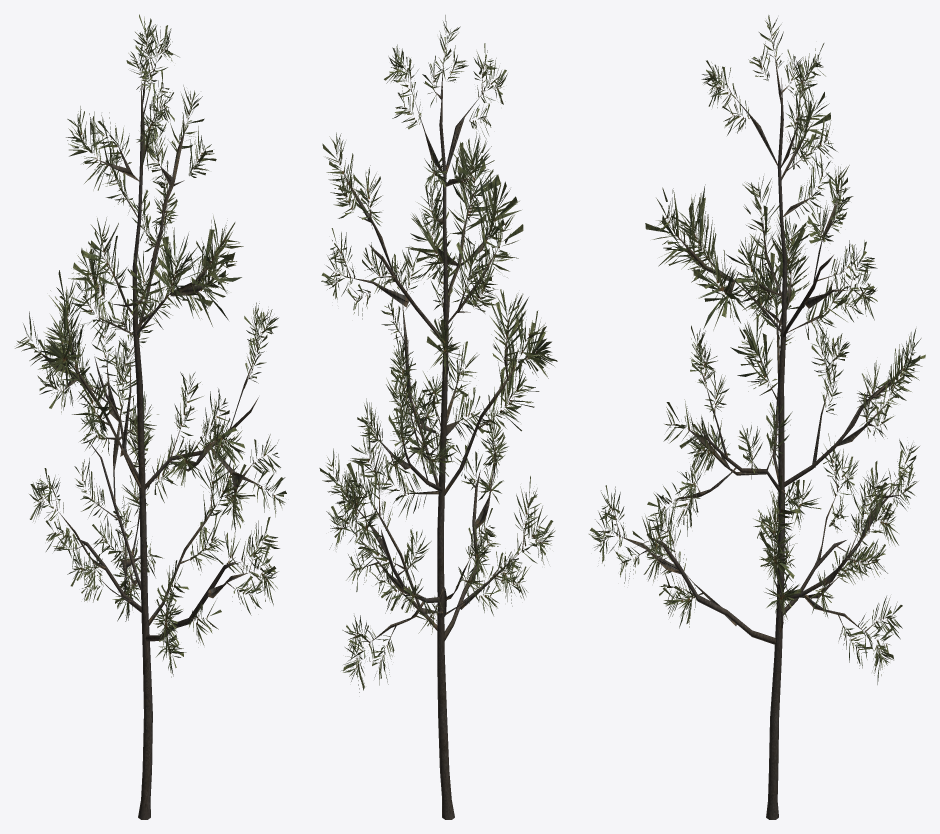
Rendered from tree_pine_sapling.glb.
3 renders of one model, left to right at view 1: azimuth 30°, elevation 25°; view 2: azimuth 150°, elevation 25°; view 3: azimuth 270°, elevation 25°, orthographic.
Visible parts, largest first — view 1: tree_pine_sapling; view 2: tree_pine_sapling; view 3: tree_pine_sapling.
Boxes of the visible parts, left/top/right/bottom form: tree_pine_sapling: left=15, top=14, right=286, bottom=819; tree_pine_sapling: left=319, top=15, right=557, bottom=819; tree_pine_sapling: left=589, top=15, right=925, bottom=819.
Size of what is drawn, in the model's own units: 0.9665 by 3.5 by 1.34.
2 materials, 2 textured.
